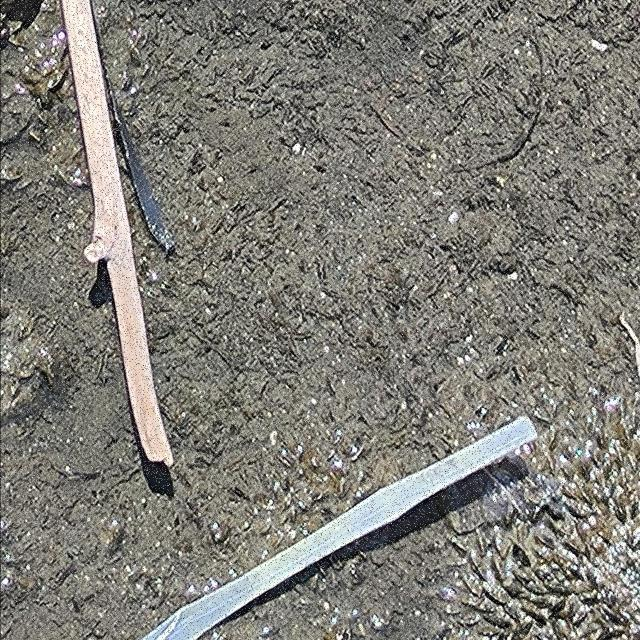plastic_waste: (141, 413, 541, 640)
